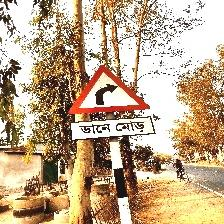Right-turn: (67, 65, 155, 140)
